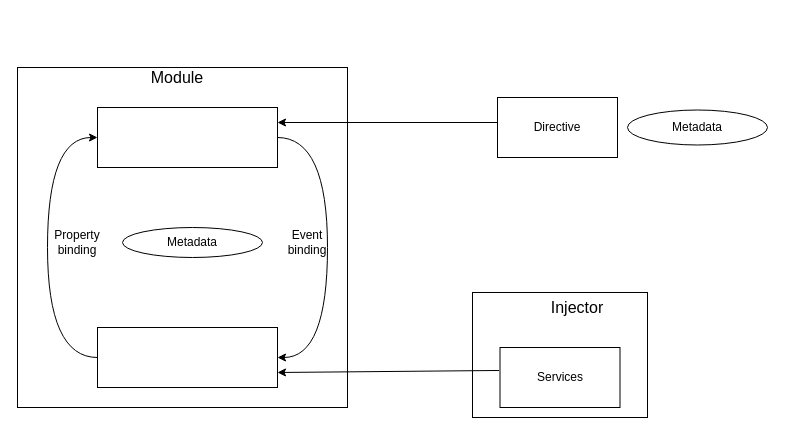
Image size: 785x435. Some labels were removed from this diagram. The centre of each missing label's shape, as x and y in pixels:
Component: the point at 187,357
Template (html, css): the point at 187,137
